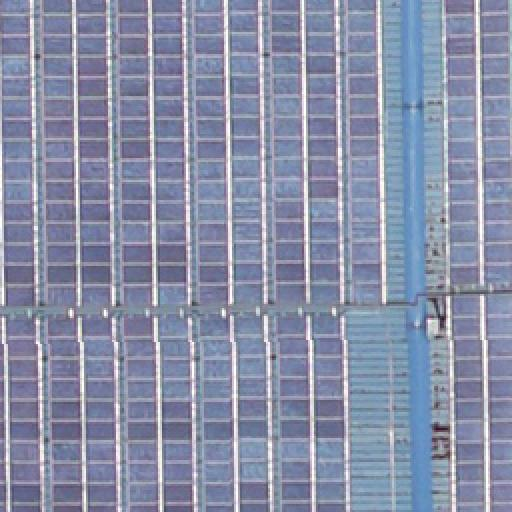solar-panel: (114, 0, 190, 304), (39, 0, 113, 304), (267, 1, 341, 303), (191, 1, 265, 303), (440, 0, 512, 284), (197, 312, 275, 512), (273, 312, 351, 512), (122, 312, 198, 512), (43, 312, 117, 512), (449, 288, 511, 512), (347, 1, 389, 303), (1, 0, 39, 304), (0, 313, 44, 511)
